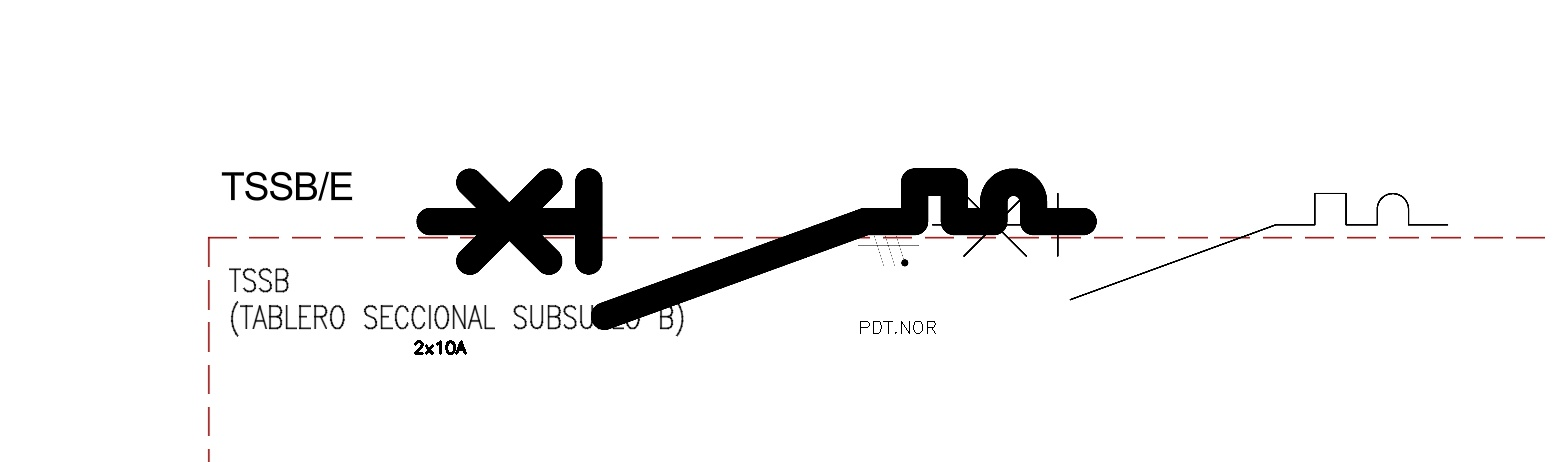interruptor_termomagnetico: (413, 165, 1100, 333), (919, 180, 1461, 312)
